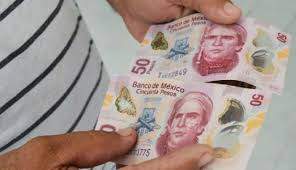billete: (94, 76, 274, 170), (127, 12, 292, 97)
